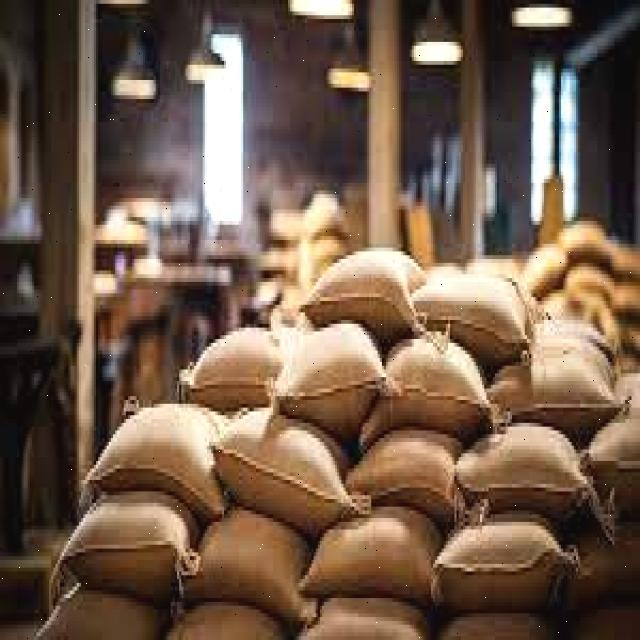sack: (209, 407, 354, 543), (81, 409, 223, 527), (180, 511, 316, 630), (57, 489, 192, 608), (300, 507, 441, 620), (355, 333, 494, 447), (484, 319, 621, 425), (432, 509, 570, 614), (273, 319, 388, 443), (454, 425, 587, 517), (346, 429, 472, 525), (412, 269, 531, 369), (299, 251, 429, 337), (183, 327, 286, 405), (584, 407, 640, 533)
